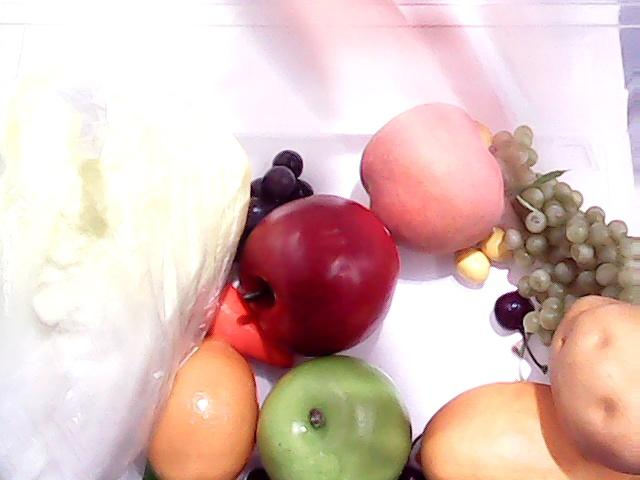apple: (237, 192, 403, 360), (256, 356, 412, 480)
carrot: (210, 281, 304, 371)
grape: (512, 137, 640, 291), (262, 152, 310, 192)
lemon: (139, 315, 272, 480)
mango: (415, 379, 633, 480)
napa cabbage: (0, 39, 224, 472)
peach: (358, 100, 507, 256)
potato: (551, 295, 640, 477)
